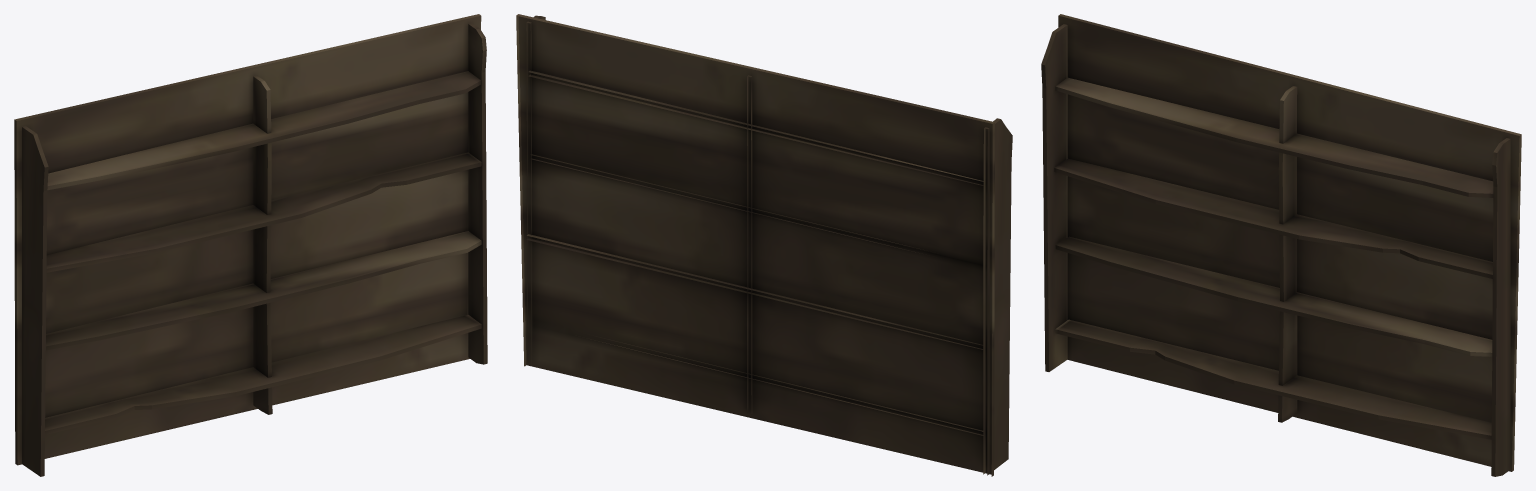
File: Wardrobe2.fbx
The picture shows the model from 3 angles, left to right: view 1: azimuth 30°, elevation 25°; view 2: azimuth 150°, elevation 25°; view 3: azimuth 330°, elevation 25°; orthographic projection. The views are drawn at different scales.
Parts seen in each view (by area): view 1: Wardrobe2.002; view 2: Wardrobe2.002; view 3: Wardrobe2.002.
Part boxes in pixels (x1,y1,x2,y2): Wardrobe2.002: (14, 14, 487, 476); Wardrobe2.002: (516, 14, 1012, 476); Wardrobe2.002: (1041, 14, 1521, 476).
Size of the model in its own units: 537 by 385 by 50.01.
Materials: 1 (1 with a texture image).
